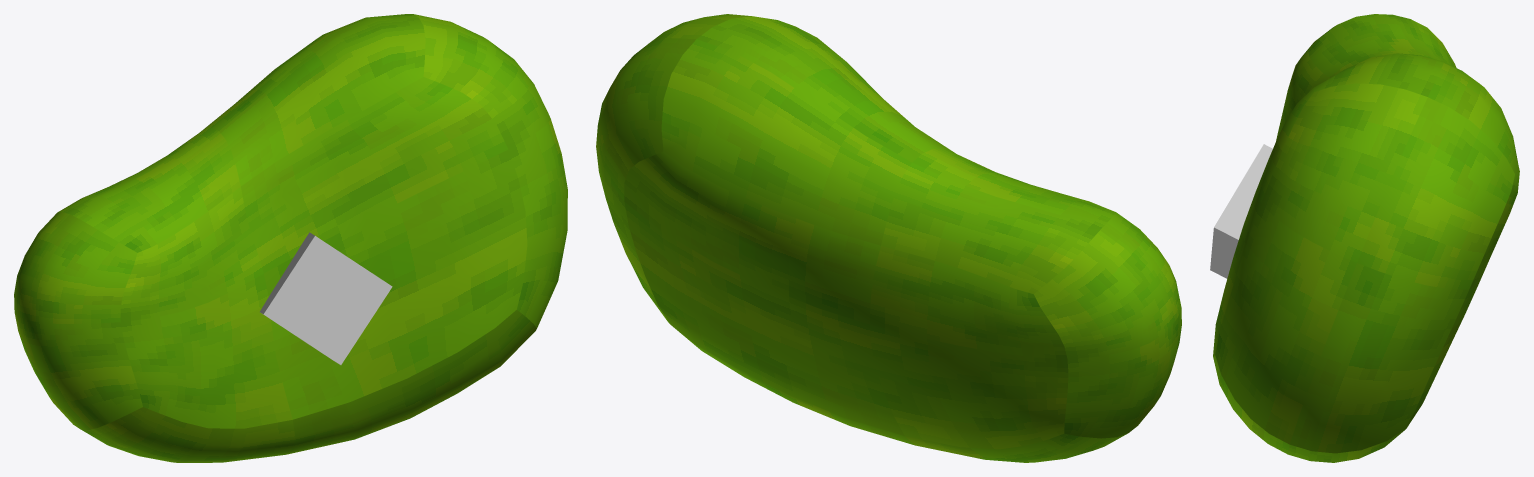
File: broadbeanplanetblow.dae
3 renders of one model, left to right at view 1: azimuth 30°, elevation 25°; view 2: azimuth 150°, elevation 25°; view 3: azimuth 270°, elevation 25°, orthographic. The views are drawn at different scales.
Parts seen in each view (by area): view 1: n0b0, n1b1; view 2: n0b0; view 3: n0b0, n1b1.
Part boxes in pixels (x1,y1,x2,y2): n0b0: [14, 14, 567, 462]; n1b1: [260, 232, 392, 364]; n0b0: [596, 14, 1181, 462]; n0b0: [1213, 14, 1519, 462]; n1b1: [1210, 144, 1272, 278].
Size of the model in its own units: 2398 by 1616 by 1108.
